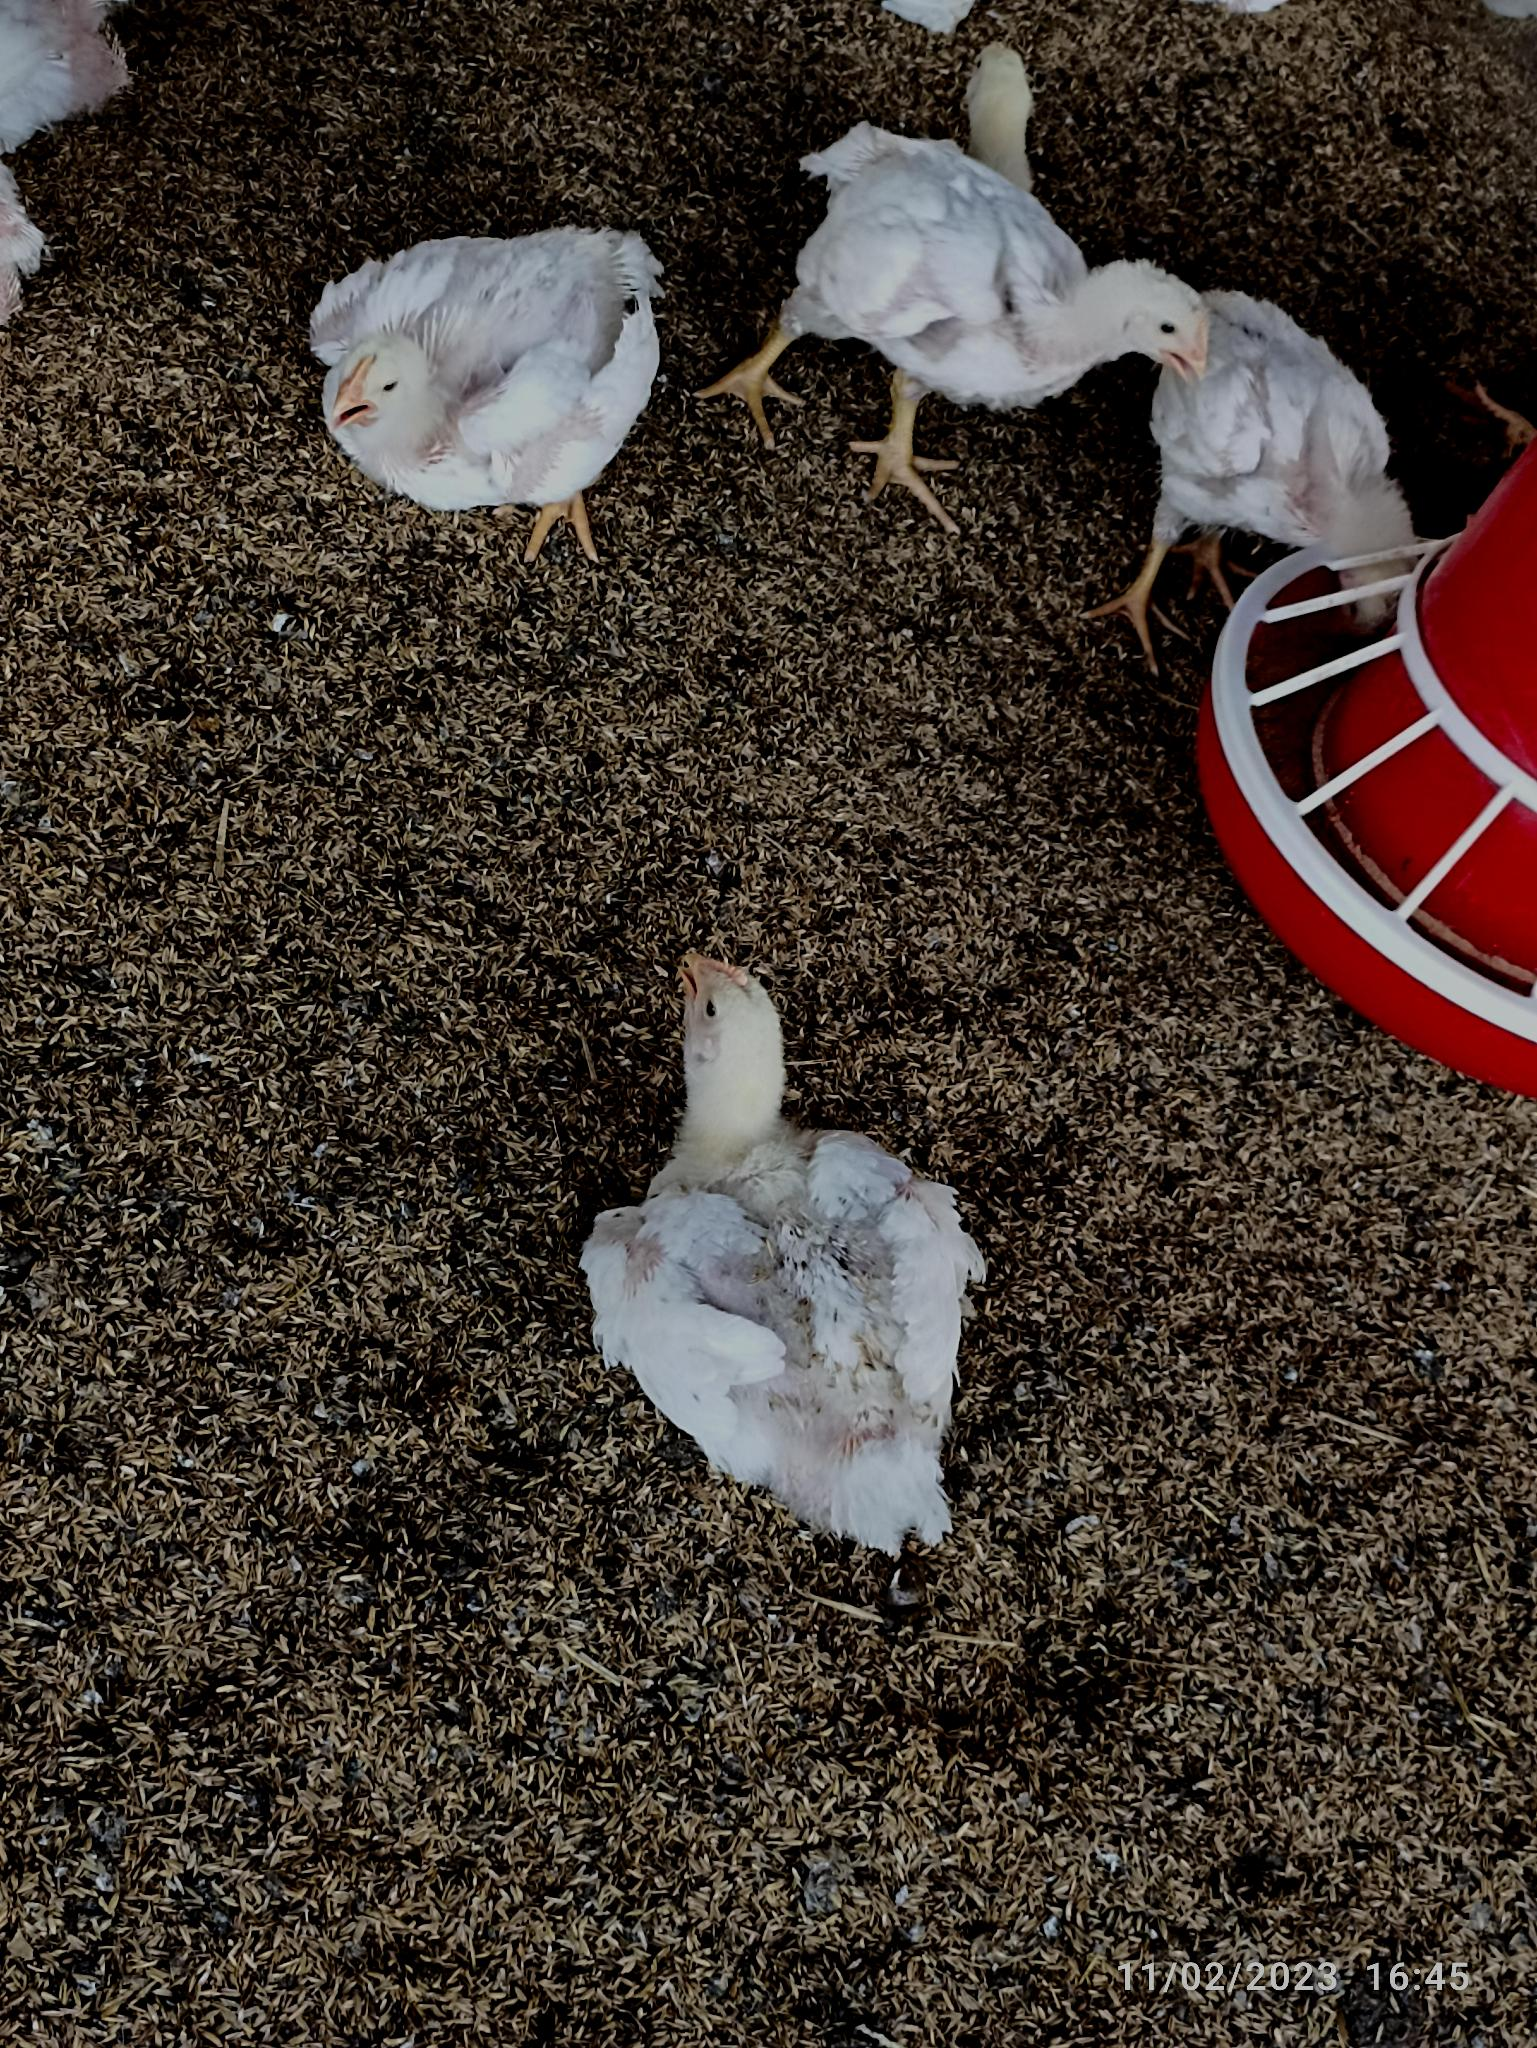Pollos: (575, 941, 990, 1549), (762, 115, 1221, 421), (310, 223, 651, 502), (1198, 289, 1414, 616)
